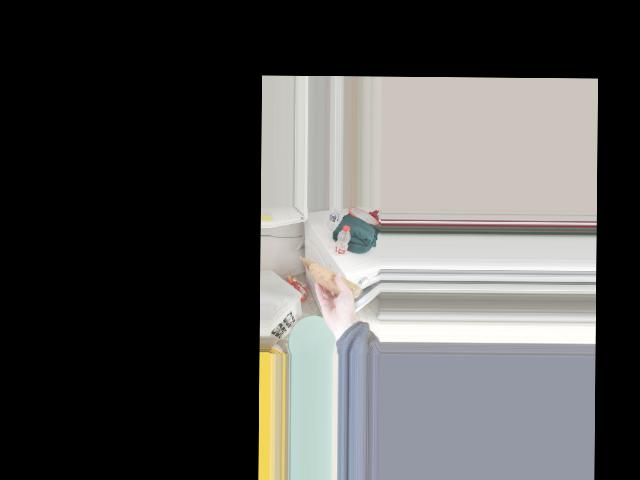sweet_potato: (313, 261, 347, 294)
